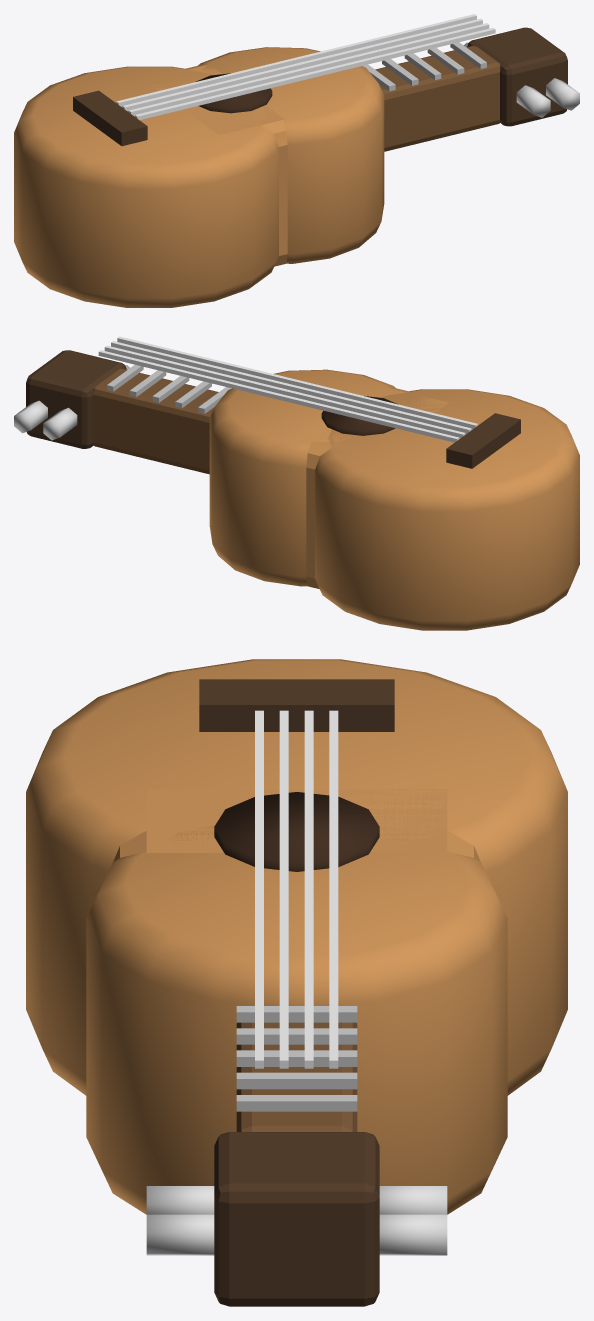
Rendered from ukulele.glb.
3 views of the same model, one above another, from view 1: azimuth 30°, elevation 25°; view 2: azimuth 150°, elevation 25°; view 3: azimuth 270°, elevation 25° (orthographic). The views are drawn at different scales.
Parts seen in each view (by area): view 1: ukulele; view 2: ukulele; view 3: ukulele.
Part boxes in pixels (x1,y1,x2,y2): ukulele: (14, 14, 579, 307); ukulele: (14, 336, 579, 630); ukulele: (26, 659, 567, 1306).
Bounding box in the file's own units: 1.58 × 0.46 × 0.72.
